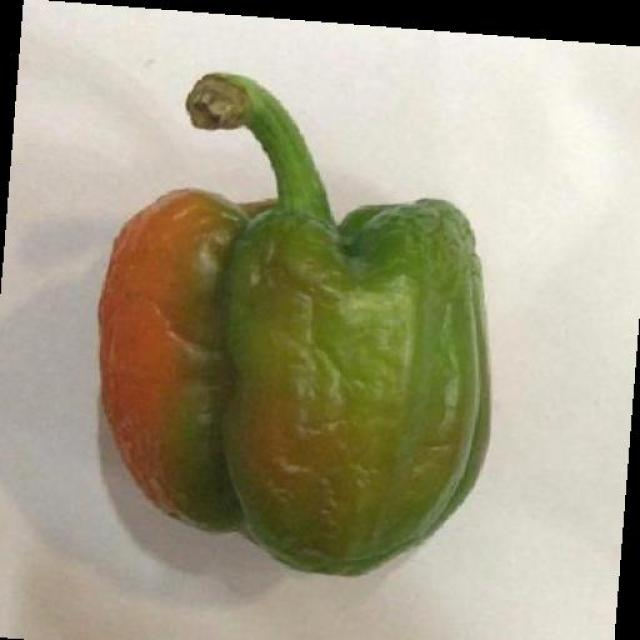Stale_Capsicum: (85, 142, 506, 542)
